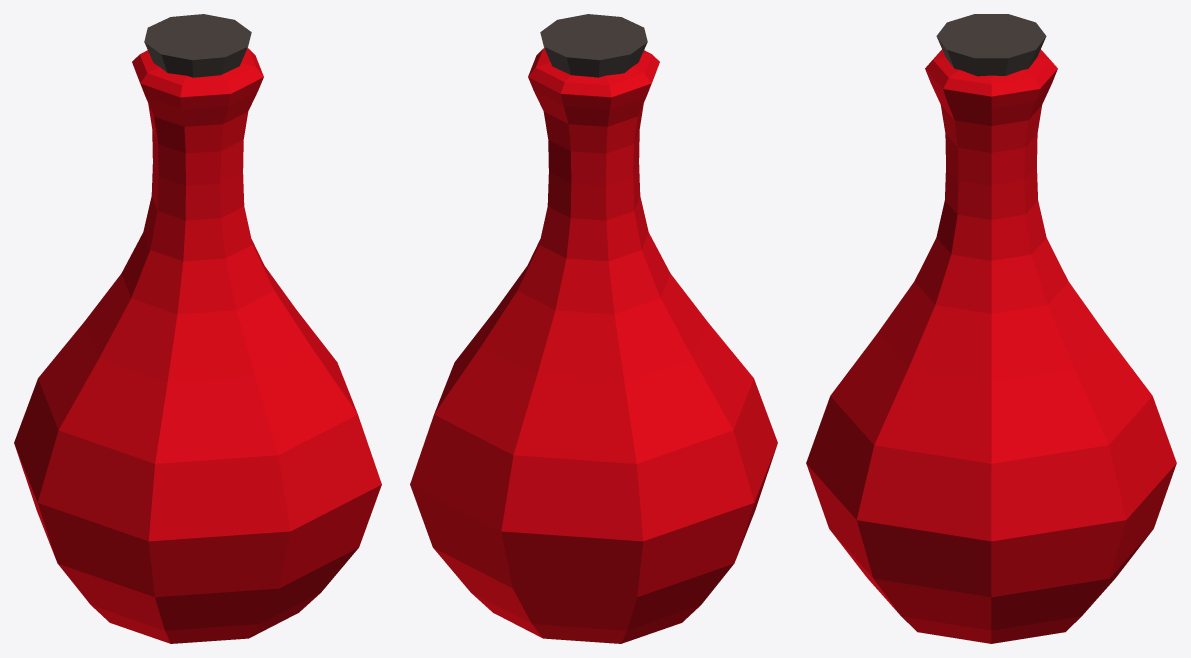
File: Health_Potion_001.fbx
3 renders of one model, left to right at view 1: azimuth 30°, elevation 25°; view 2: azimuth 150°, elevation 25°; view 3: azimuth 270°, elevation 25°, orthographic.
Parts seen in each view (by area): view 1: Health Potion.001; view 2: Health Potion.001; view 3: Health Potion.001.
Part boxes in pixels (left/top/right/bottom): Health Potion.001: left=14, top=14, right=381, bottom=643; Health Potion.001: left=410, top=14, right=777, bottom=643; Health Potion.001: left=806, top=14, right=1176, bottom=643.
Size of the model in its own units: 25.03 by 42.46 by 25.03.
